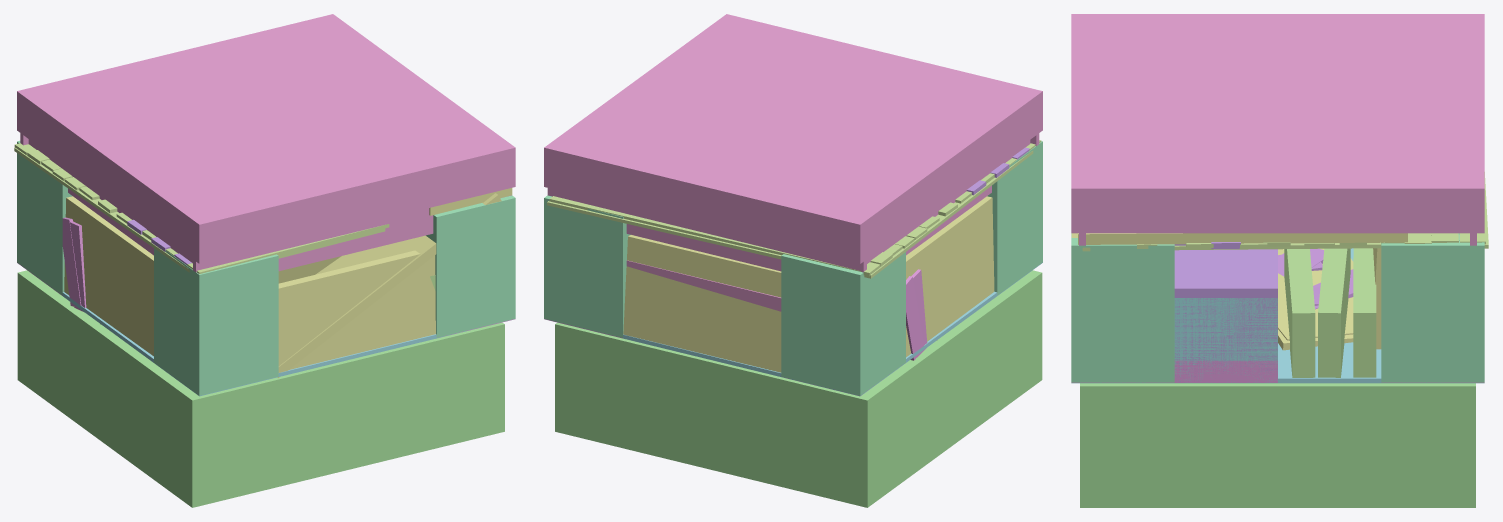
Rendered from bunker.glb.
3 renders of one model, left to right at view 1: azimuth 30°, elevation 25°; view 2: azimuth 150°, elevation 25°; view 3: azimuth 270°, elevation 25°, orthographic. The views are drawn at different scales.
Parts seen in each view (by area): view 1: S5|SM_Bunker_Roof_01A#0, S6|SM_Foundation_Bunker#0, S5|SM_HescoBarrier_Tall_Stage5_01a#0, S4|SM_AirRaidShelter_Sheet_Stage_01a#1, S5|SM_HescoBarrier_Tall_Stage5_01a#1, S4|SM_AirRaidShelter_Sheet_Stage_01a#2, S5|SM_HescoBarrier_Tall_Stage5_01a#2, S3|SM_AirRaidShelter_Sheet_Stage_01a#1, S5|SM_Bunker_Floor_01A#0, S4|SM_Wooden_Plank_03b#1, S2|SM_HescoBarrier_Tall_Stage1_01a#3, S4|SM_Wooden_Plank_03b#6 (+3 smaller); view 2: S5|SM_Bunker_Roof_01A#0, S6|SM_Foundation_Bunker#0, S5|SM_HescoBarrier_Tall_Stage5_01a#2, S4|SM_AirRaidShelter_Sheet_Stage_01a#0, S5|SM_HescoBarrier_Tall_Stage5_01a#3, S4|SM_AirRaidShelter_Sheet_Stage_01a#2, S5|SM_HescoBarrier_Tall_Stage5_01a#0, S5|SM_Bunker_Floor_01A#0, S4|SM_Wooden_Plank_03b#4, S4|SM_Wooden_Plank_03b#2, S2|SM_HescoBarrier_Tall_Stage1_01a#3, S4|SM_Wooden_Plank_03b#1; view 3: S5|SM_Bunker_Roof_01A#0, S6|SM_Foundation_Bunker#0, S5|SM_HescoBarrier_Tall_Stage5_01a#3, S5|SM_HescoBarrier_Tall_Stage5_01a#1, S5|SM_HESCO_Stage5_01a#0, S4|SM_HescoBarrier_Tall_Stage3_01a#0, S4|SM_SandBag_Barrier_Stage5#2, S4|SM_SandBag_Barrier_Stage5#1, S4|SM_AirRaidShelter_Sheet_Stage_01a#3, S4|SM_SandBag_Barrier_Stage5#0, S1|SM_HescoBarrier_Tall_Stage1_01a#2, S5|SM_Bunker_Floor_01A#0 (+3 smaller).
Boxes of the visible parts, x1=… form: S5|SM_Bunker_Roof_01A#0: x1=17, y1=14, x2=515, y2=272; S6|SM_Foundation_Bunker#0: x1=17, y1=270, x2=504, y2=507; S5|SM_HescoBarrier_Tall_Stage5_01a#0: x1=154, y1=248, x2=278, y2=395; S4|SM_AirRaidShelter_Sheet_Stage_01a#1: x1=278, y1=250, x2=435, y2=369; S5|SM_HescoBarrier_Tall_Stage5_01a#1: x1=426, y1=195, x2=515, y2=337; S4|SM_AirRaidShelter_Sheet_Stage_01a#2: x1=64, y1=196, x2=153, y2=356; S5|SM_HescoBarrier_Tall_Stage5_01a#2: x1=17, y1=140, x2=72, y2=295; S3|SM_AirRaidShelter_Sheet_Stage_01a#1: x1=277, y1=193, x2=501, y2=377; S5|SM_Bunker_Floor_01A#0: x1=18, y1=263, x2=509, y2=396; S4|SM_Wooden_Plank_03b#1: x1=14, y1=147, x2=189, y2=272; S2|SM_HescoBarrier_Tall_Stage1_01a#3: x1=62, y1=217, x2=81, y2=307; S4|SM_Wooden_Plank_03b#6: x1=186, y1=224, x2=389, y2=273; S5|SM_Bunker_Roof_01A#0: x1=544, y1=14, x2=1042, y2=311; S6|SM_Foundation_Bunker#0: x1=555, y1=270, x2=1042, y2=507; S5|SM_HescoBarrier_Tall_Stage5_01a#2: x1=781, y1=252, x2=905, y2=395; S4|SM_AirRaidShelter_Sheet_Stage_01a#0: x1=623, y1=235, x2=781, y2=372; S5|SM_HescoBarrier_Tall_Stage5_01a#3: x1=544, y1=195, x2=630, y2=337; S4|SM_AirRaidShelter_Sheet_Stage_01a#2: x1=906, y1=196, x2=994, y2=357; S5|SM_HescoBarrier_Tall_Stage5_01a#0: x1=987, y1=141, x2=1042, y2=295; S5|SM_Bunker_Floor_01A#0: x1=554, y1=262, x2=1042, y2=396; S4|SM_Wooden_Plank_03b#4: x1=549, y1=196, x2=880, y2=276; S4|SM_Wooden_Plank_03b#2: x1=547, y1=201, x2=781, y2=259; S2|SM_HescoBarrier_Tall_Stage1_01a#3: x1=906, y1=276, x2=924, y2=360; S4|SM_Wooden_Plank_03b#1: x1=864, y1=150, x2=1033, y2=278; S5|SM_Bunker_Roof_01A#0: x1=1071, y1=14, x2=1484, y2=245; S6|SM_Foundation_Bunker#0: x1=1080, y1=383, x2=1475, y2=507; S5|SM_HescoBarrier_Tall_Stage5_01a#3: x1=1381, y1=233, x2=1484, y2=382; S5|SM_HescoBarrier_Tall_Stage5_01a#1: x1=1071, y1=233, x2=1174, y2=382; S5|SM_HESCO_Stage5_01a#0: x1=1174, y1=249, x2=1277, y2=381; S4|SM_HescoBarrier_Tall_Stage3_01a#0: x1=1174, y1=298, x2=1277, y2=380; S4|SM_SandBag_Barrier_Stage5#2: x1=1318, y1=248, x2=1350, y2=377; S4|SM_SandBag_Barrier_Stage5#1: x1=1284, y1=249, x2=1315, y2=377; S4|SM_AirRaidShelter_Sheet_Stage_01a#3: x1=1078, y1=233, x2=1407, y2=244; S4|SM_SandBag_Barrier_Stage5#0: x1=1353, y1=248, x2=1376, y2=377; S1|SM_HescoBarrier_Tall_Stage1_01a#2: x1=1174, y1=360, x2=1277, y2=382; S5|SM_Bunker_Floor_01A#0: x1=1071, y1=248, x2=1484, y2=383.
Size of the model in its own units: 6.14 by 5.17 by 6.06.
